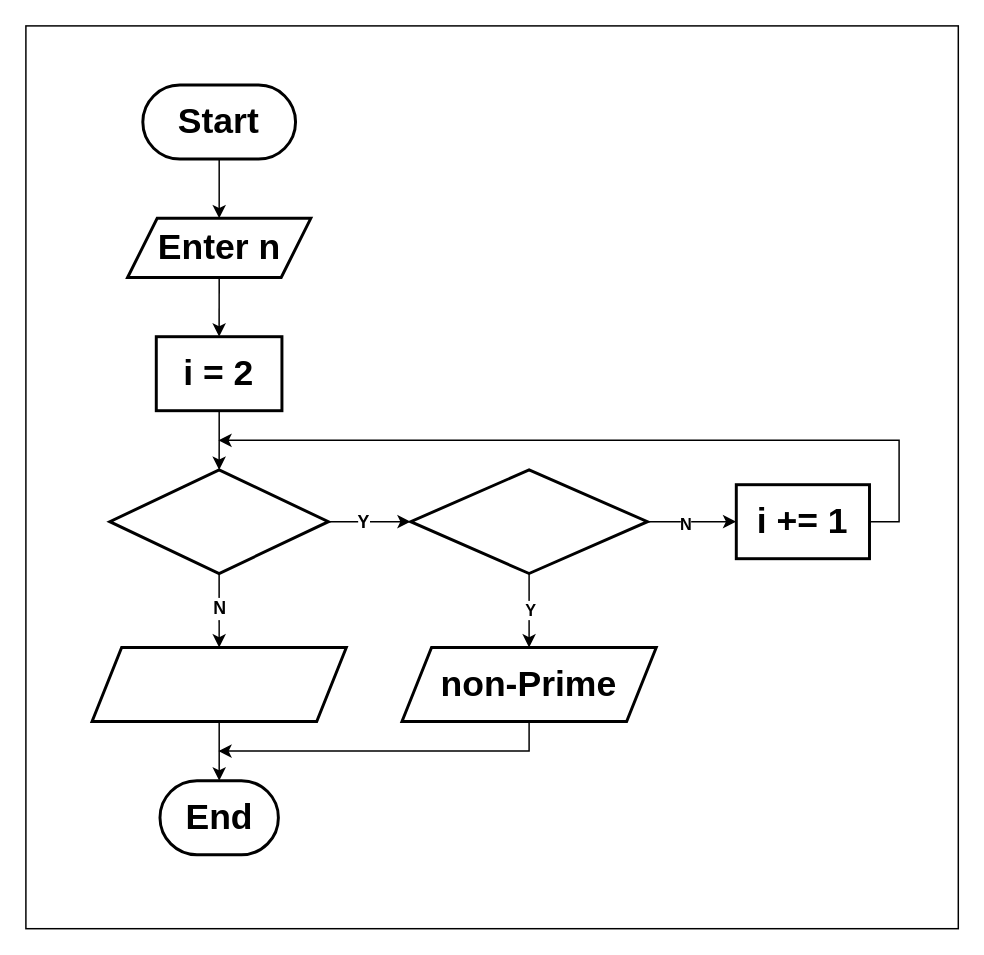
Image size: 984x955. Some labels were removed from this diagram. Each missing label, with the box of its shape:
i <= n-1?: (108, 468, 329, 574)
n%i == 0?: (408, 468, 648, 574)
Prime: (90, 645, 347, 722)
